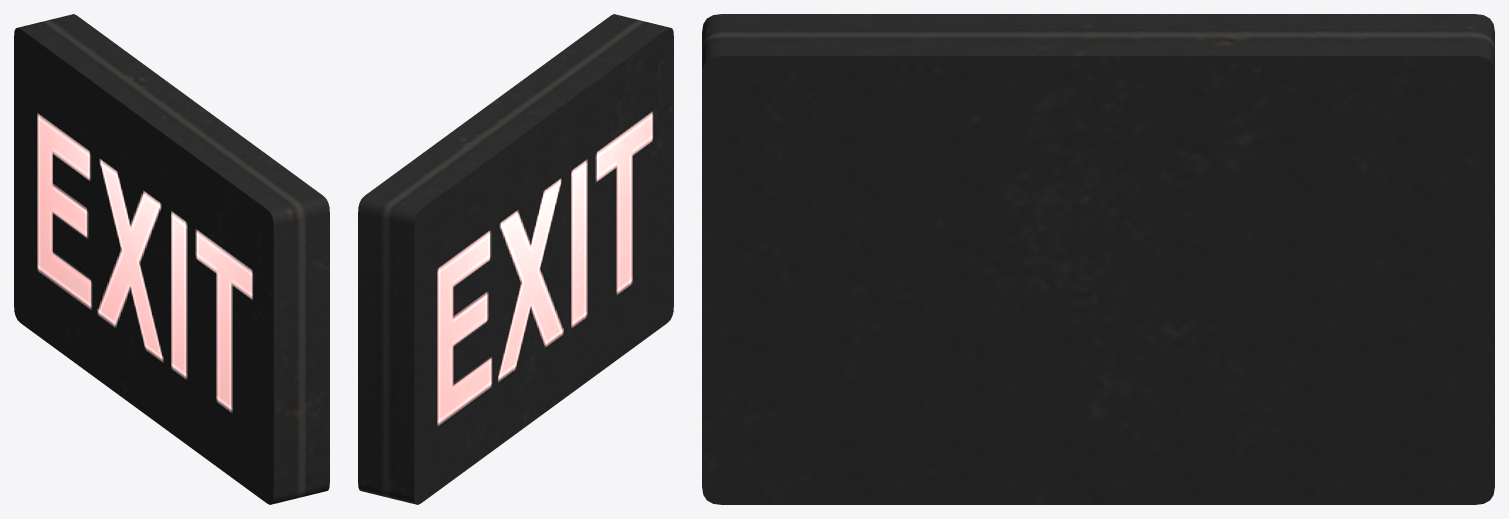
File: SM_ExitPlate.fbx
3 views of the same model, side by side, from view 1: azimuth 30°, elevation 25°; view 2: azimuth 150°, elevation 25°; view 3: azimuth 270°, elevation 25° (orthographic). The views are drawn at different scales.
Parts seen in each view (by area): view 1: SM_ExitPlate_LOD0; view 2: SM_ExitPlate_LOD0; view 3: SM_ExitPlate_LOD0.
Boxes of the visible parts, x1=… form: SM_ExitPlate_LOD0: x1=14, y1=14, x2=329, y2=504; SM_ExitPlate_LOD0: x1=358, y1=14, x2=673, y2=504; SM_ExitPlate_LOD0: x1=702, y1=14, x2=1494, y2=504.
Size of the model in its own units: 5 by 40 by 25.
1 material, 1 textured.
